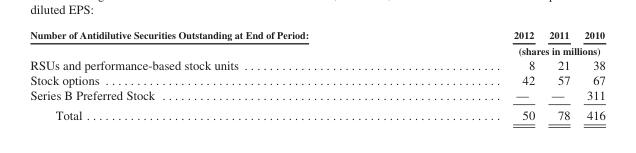table: (29, 28, 604, 121)
table column: (29, 28, 410, 121), (410, 28, 541, 121), (541, 28, 576, 121), (576, 28, 604, 121)
table column header: (29, 28, 604, 56)
table row: (29, 87, 604, 104), (29, 104, 604, 121), (29, 71, 604, 87), (29, 56, 604, 71), (29, 28, 604, 42), (29, 42, 604, 56)
table spanning cell: (29, 28, 410, 56), (410, 42, 604, 56)
